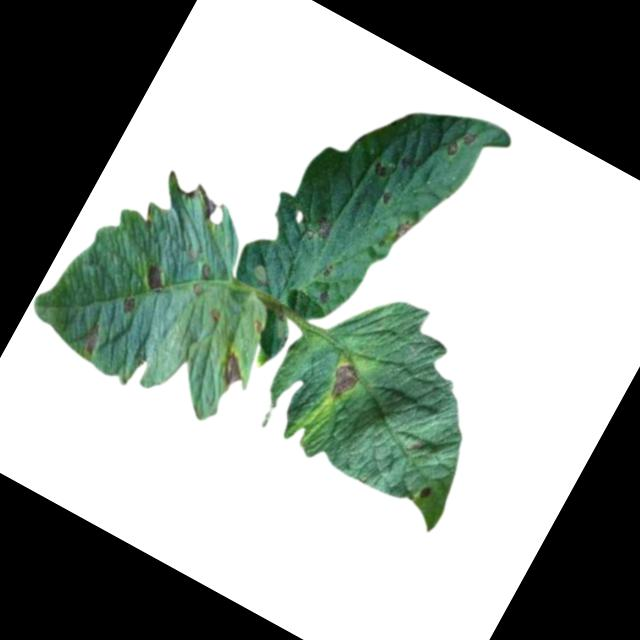Early_blight: (210, 348, 252, 393), (322, 360, 364, 405), (136, 260, 171, 296), (77, 318, 108, 356), (308, 215, 335, 243), (389, 217, 416, 245), (439, 138, 459, 161), (116, 295, 136, 317), (368, 160, 388, 180), (195, 261, 213, 279), (417, 484, 433, 502), (315, 289, 331, 306)
